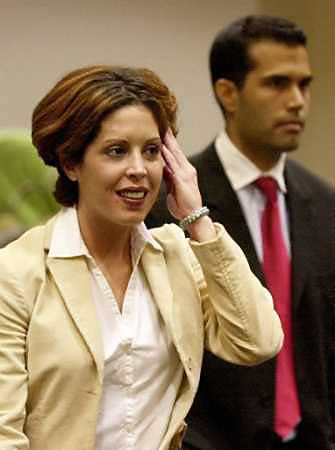Face: (82, 119, 169, 235), (236, 38, 316, 161)
